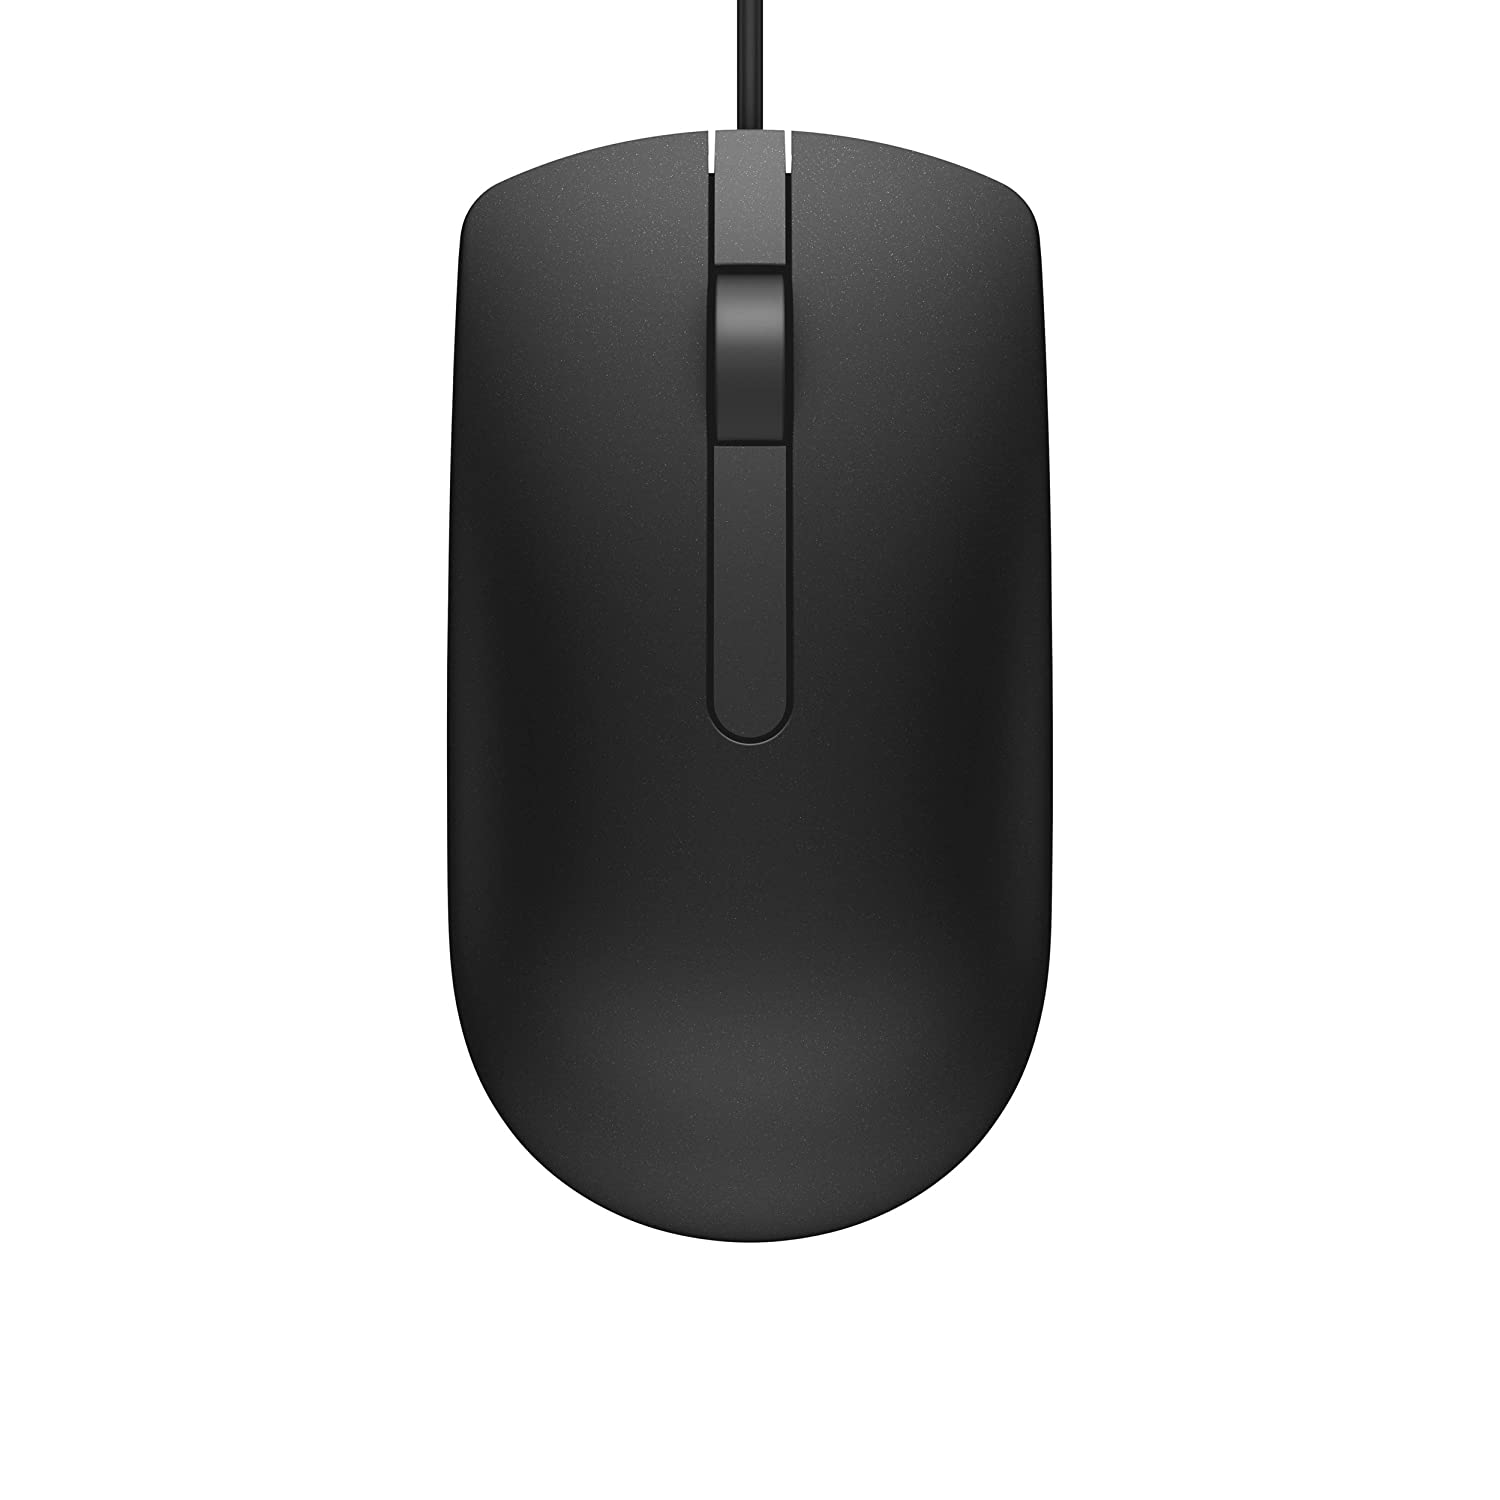dell-mouse-ms116: (365, 8, 1191, 1261)
